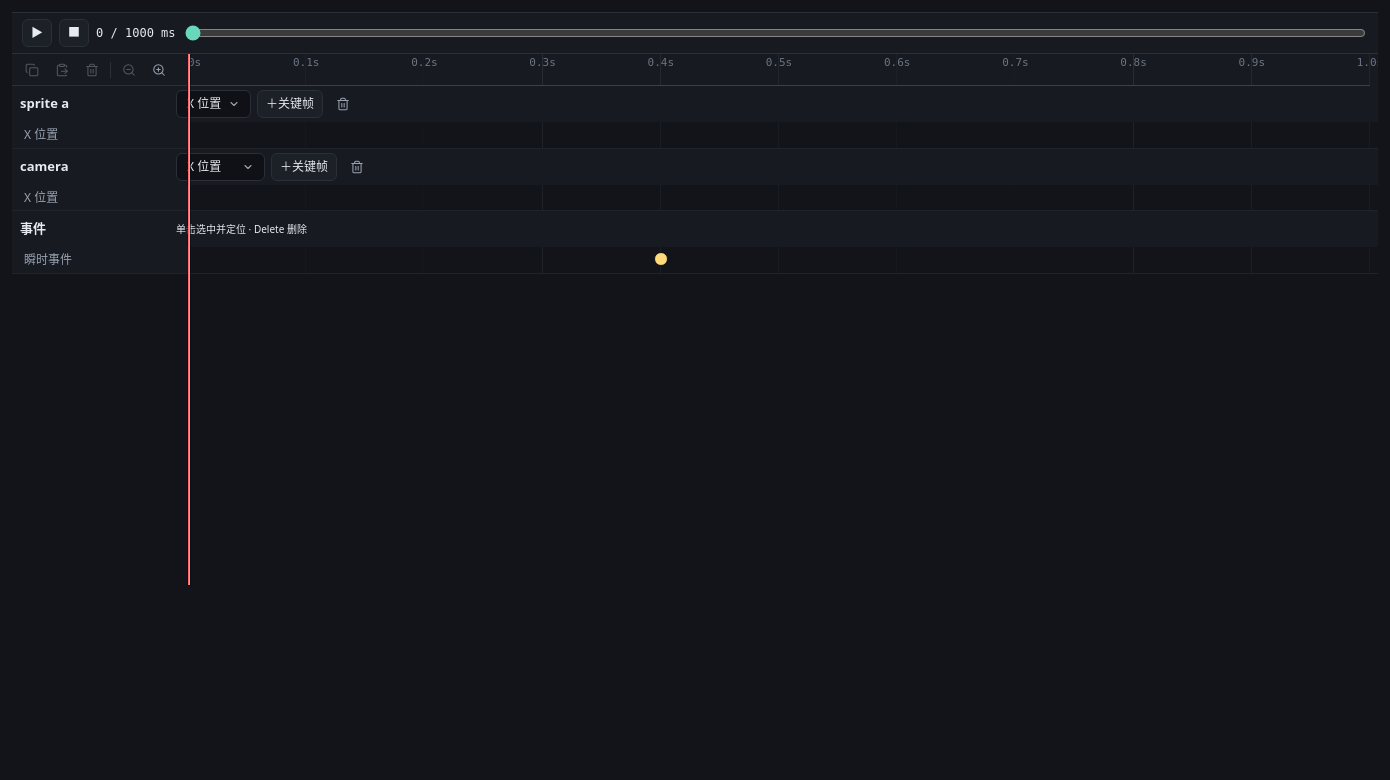
Test: TimelineSurface events › never deletes an event on double-click; select + Delete removes it
Step 1. Double-click the button named "flash_1 400ms" → coordinates (661, 259), box left=654, top=252, right=668, bottom=266
Step 2. Click the button named "flash_1 400ms" → coordinates (661, 259), box left=654, top=252, right=668, bottom=266
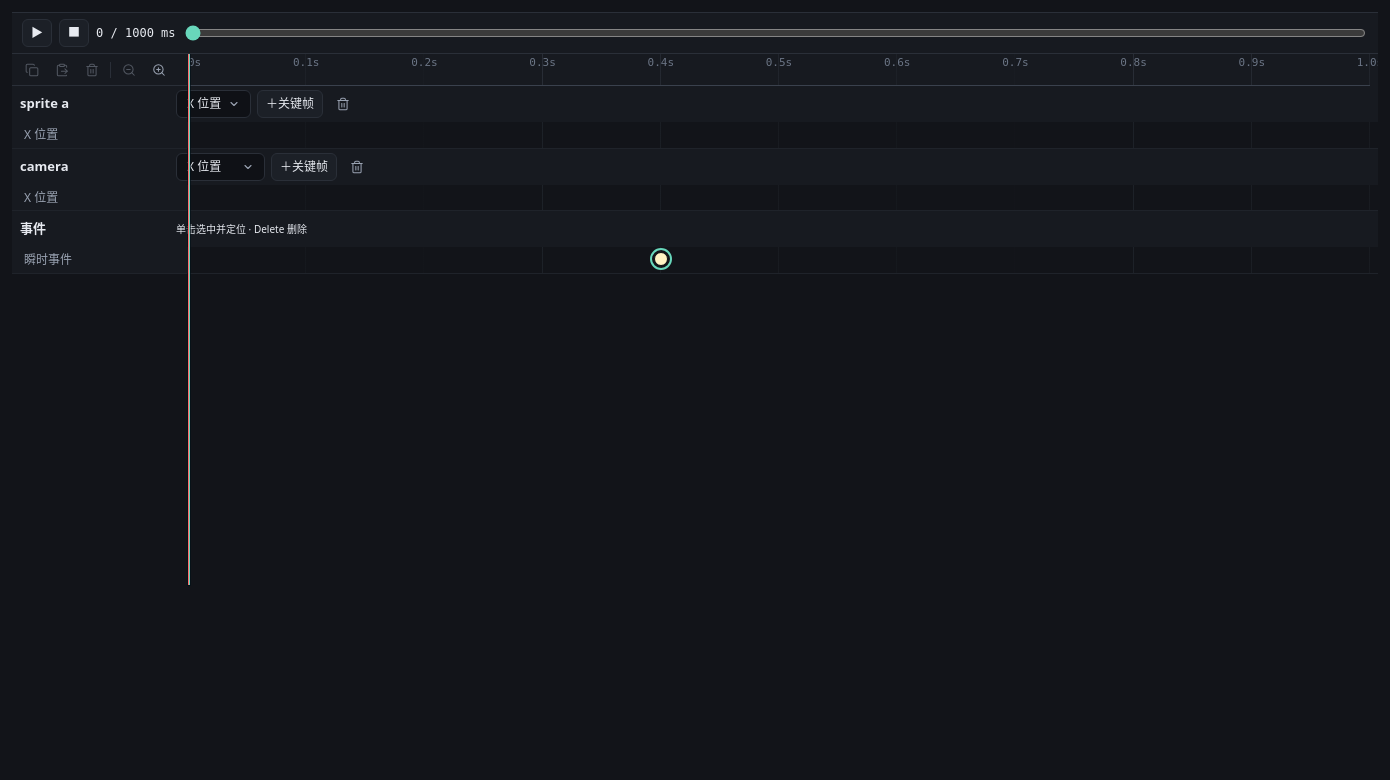
Step 3. Press Delete
(page scrolled)
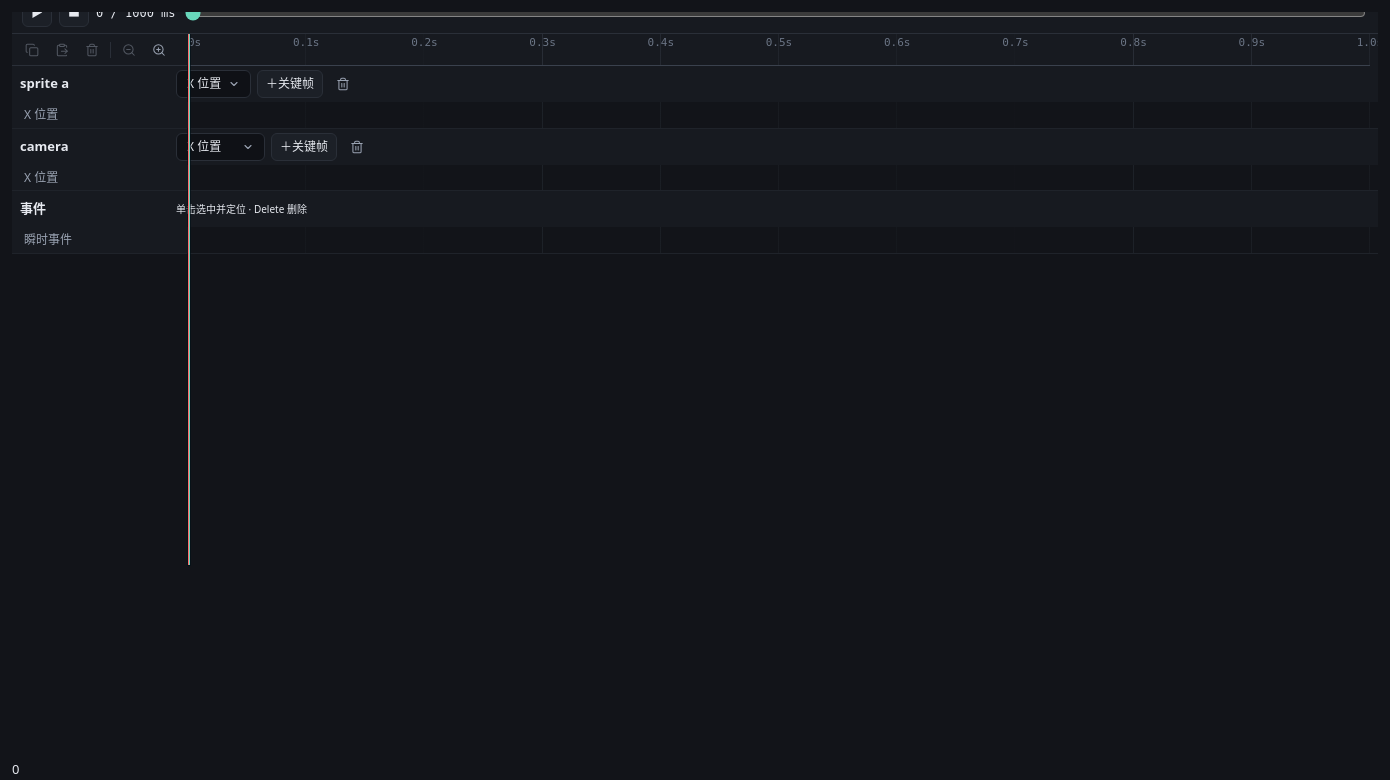
Result: the text with test id "events" reads "0" at left=12, top=760, right=19, bottom=778
